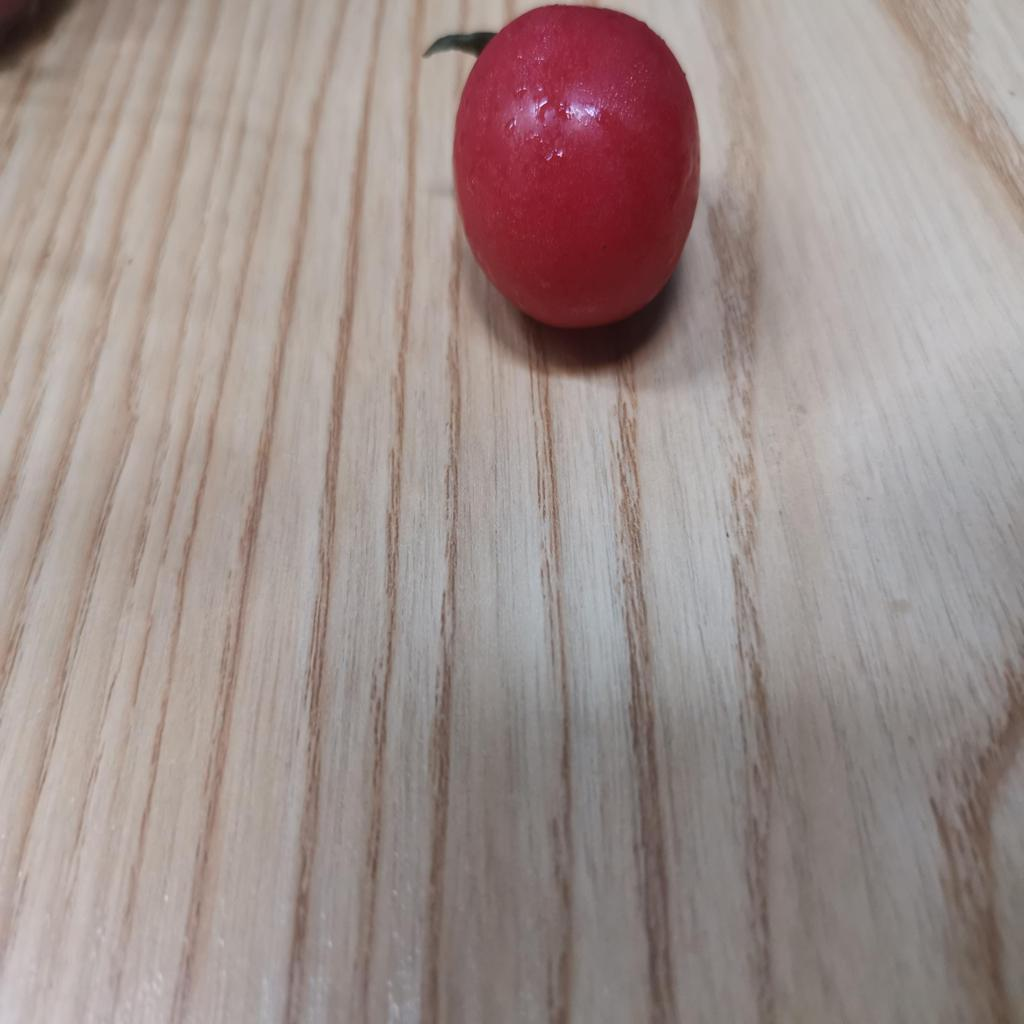tomato: (453, 13, 711, 335)
